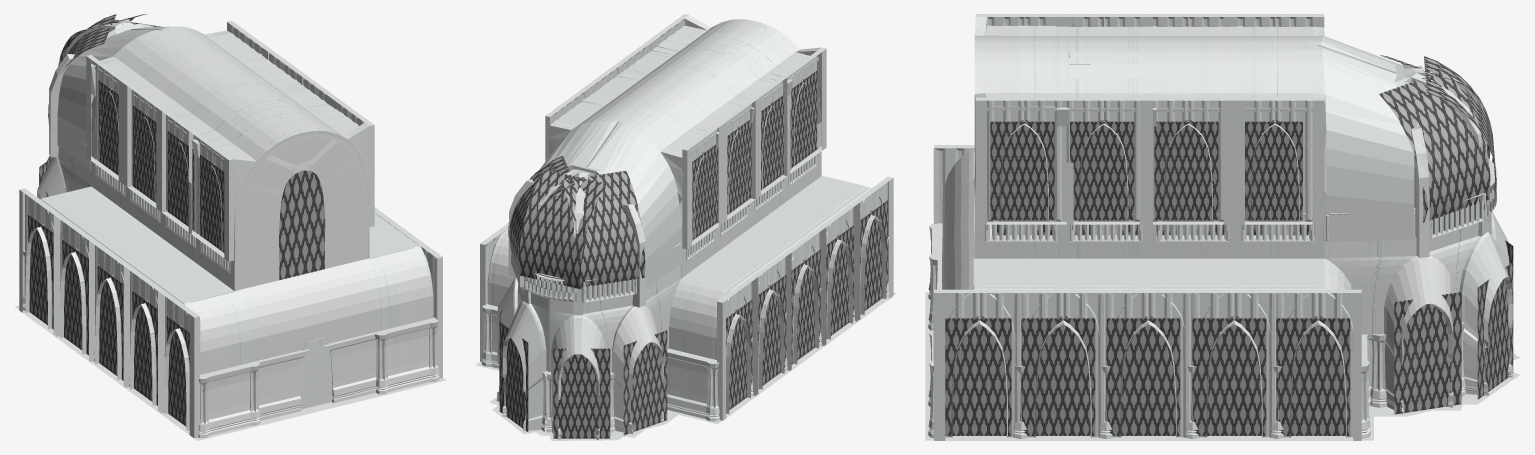
File: kirkkosisävalmis.fbx
3 views of the same model, side by side, from view 1: azimuth 30°, elevation 25°; view 2: azimuth 150°, elevation 25°; view 3: azimuth 270°, elevation 25° (orthographic). The views are drawn at different scales.
Parts seen in each view (by area): view 1: rakennelma, ikkunat, isoikun; view 2: rakennelma, ikkunat, ikkunat2; view 3: rakennelma, ikkunat2, ikkunat.
Part boxes in pixels (bbox=[...]): rakennelma: bbox=[15, 19, 445, 440]; ikkunat: bbox=[28, 14, 224, 426]; isoikun: bbox=[279, 170, 324, 280]; rakennelma: bbox=[475, 14, 896, 440]; ikkunat: bbox=[519, 70, 887, 438]; ikkunat2: bbox=[499, 155, 574, 431]; rakennelma: bbox=[925, 14, 1519, 440]; ikkunat2: bbox=[945, 70, 1513, 436]; ikkunat: bbox=[991, 55, 1513, 263].
Bounding box in the file's own units: 1577 × 1598 × 2669.
